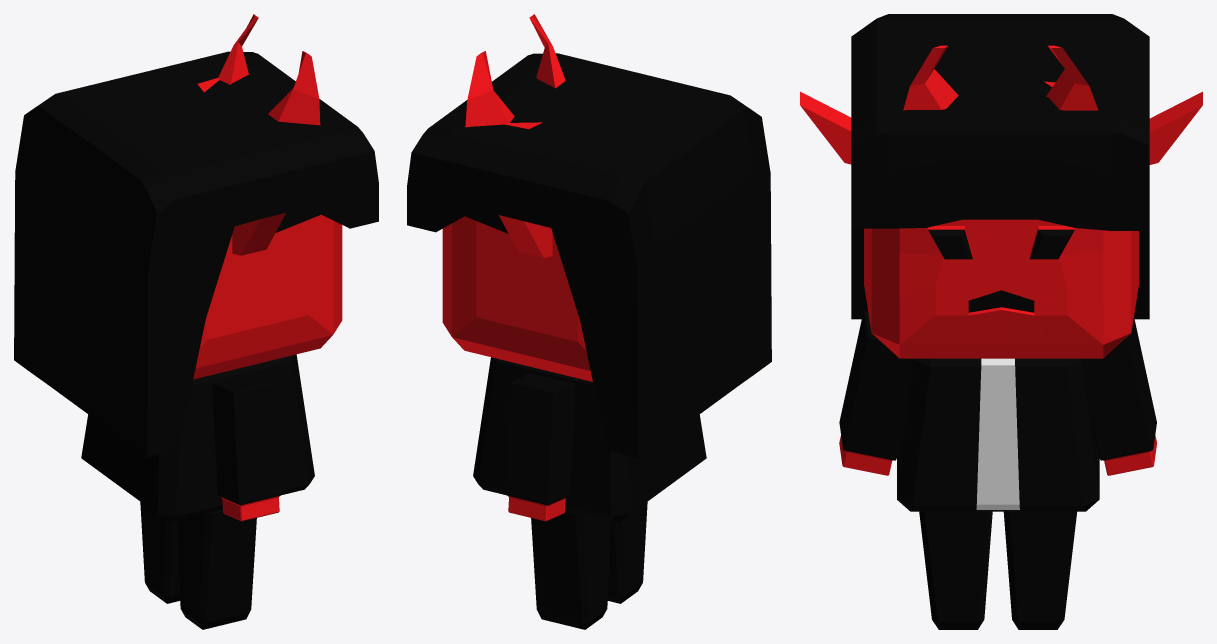
Rendered from DevilModel_5.fbx.
3 renders of one model, left to right at view 1: azimuth 30°, elevation 25°; view 2: azimuth 150°, elevation 25°; view 3: azimuth 270°, elevation 25°, orthographic. The views are drawn at different scales.
Parts seen in each view (by area): view 1: Cube.002, Head, Torso, LegLeft, Cube.001; view 2: Cube.002, Head, Torso, LegLeft, Cube.001; view 3: Cube.002, Head, Torso, Cube.001, LegLeft.
Part boxes in pixels (left/top/right/bottom): Cube.002: left=14, top=51, right=378, bottom=457; Head: left=193, top=14, right=342, bottom=379; Torso: left=81, top=354, right=314, bottom=522; LegLeft: left=140, top=502, right=256, bottom=629; Cube.001: left=212, top=373, right=282, bottom=521; Cube.002: left=407, top=53, right=771, bottom=459; Head: left=442, top=14, right=592, bottom=381; Torso: left=473, top=357, right=706, bottom=522; LegLeft: left=531, top=502, right=647, bottom=629; Cube.001: left=505, top=373, right=575, bottom=521; Cube.002: left=851, top=14, right=1149, bottom=319; Head: left=800, top=45, right=1202, bottom=358; Torso: left=897, top=358, right=1099, bottom=511; Cube.001: left=839, top=310, right=1156, bottom=475; LegLeft: left=919, top=511, right=1076, bottom=629.
Bounding box in the file's own units: 203 × 456 × 270.
